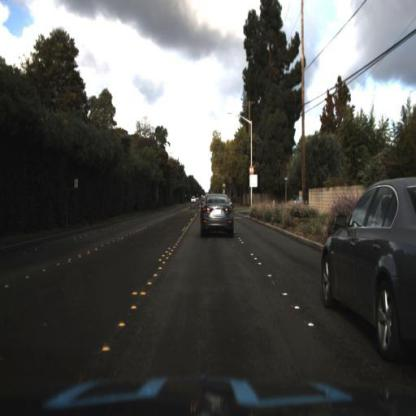car: (317, 175, 415, 363), (199, 191, 235, 238)
